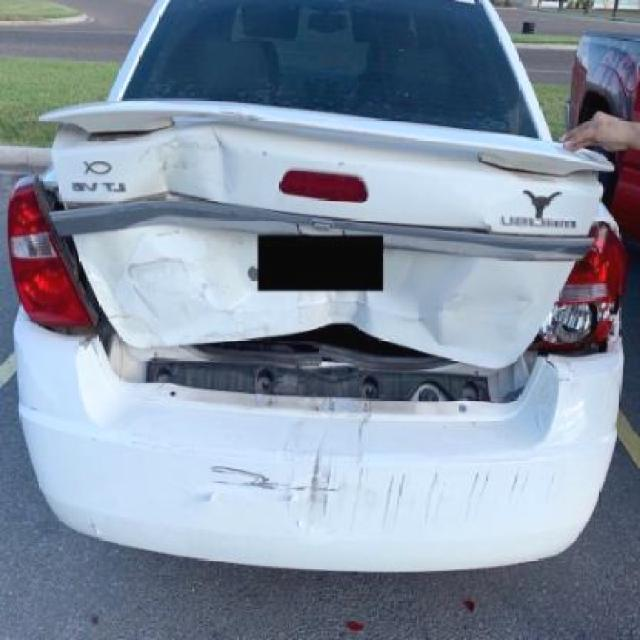minor: (280, 457, 366, 540), (383, 472, 448, 531), (206, 462, 274, 494), (508, 462, 552, 505), (465, 471, 491, 522), (182, 492, 212, 509)
moderate: (48, 125, 611, 417)
